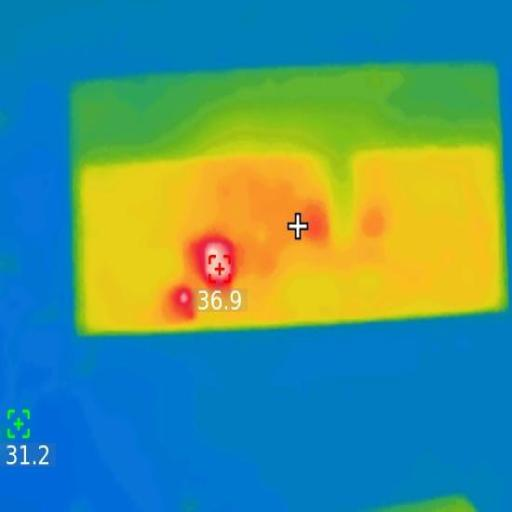hotspot: (195, 235, 238, 287), (176, 290, 193, 308)
